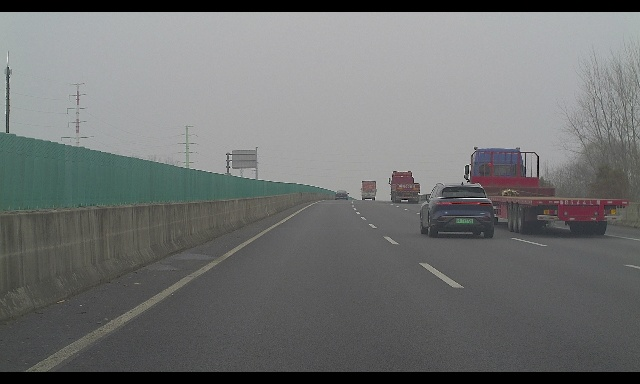car: (420, 182, 495, 238), (335, 190, 349, 200)
truck: (464, 147, 629, 235), (389, 171, 420, 203), (361, 181, 376, 201)
